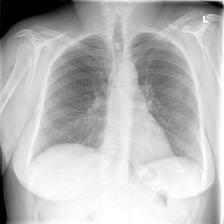normal: (26, 21, 208, 193)
